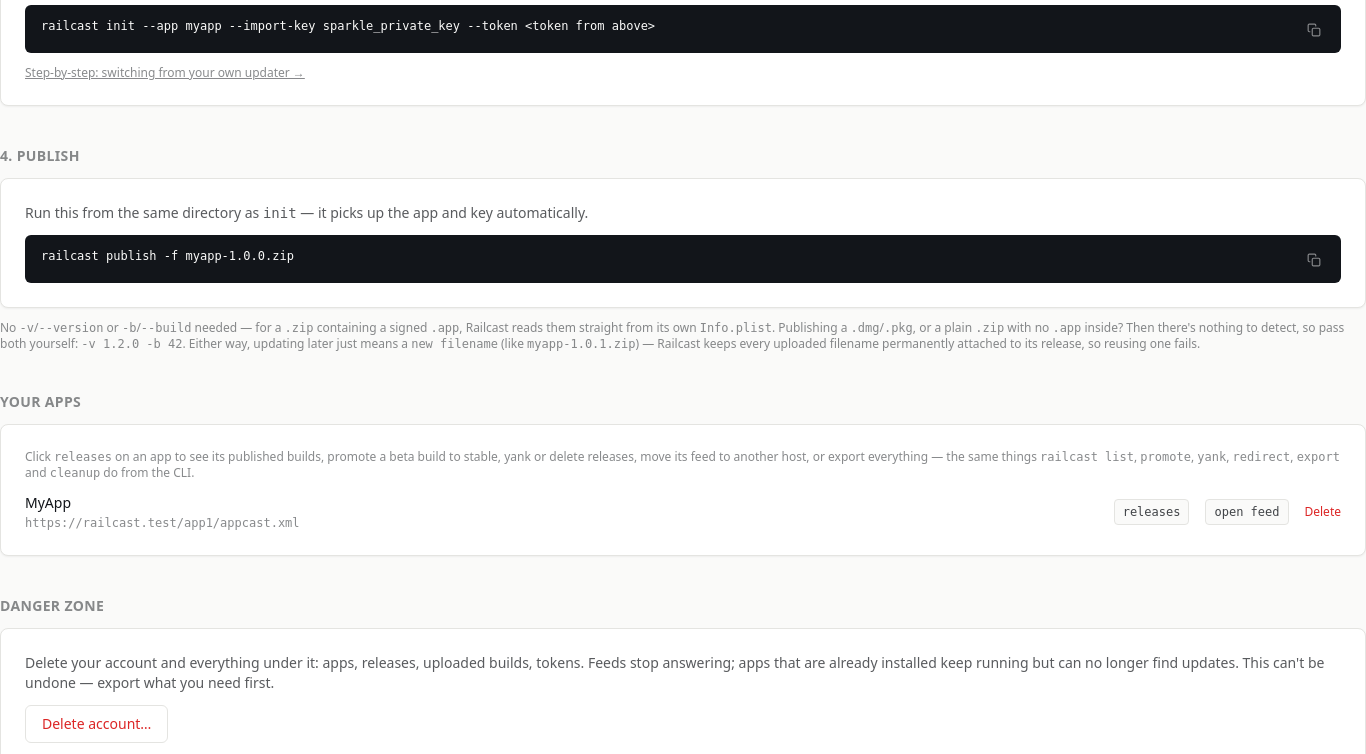
Scenario: promote › shows the server's reason when the build isn't higher than stable's latest
This screenshot has width=1366, height=754.
(page scrolled)
What coordinates should you click on to do the following:
click the button "releases"
I would click on:
 (1152, 512)
Its box is [1114, 499, 1190, 525].
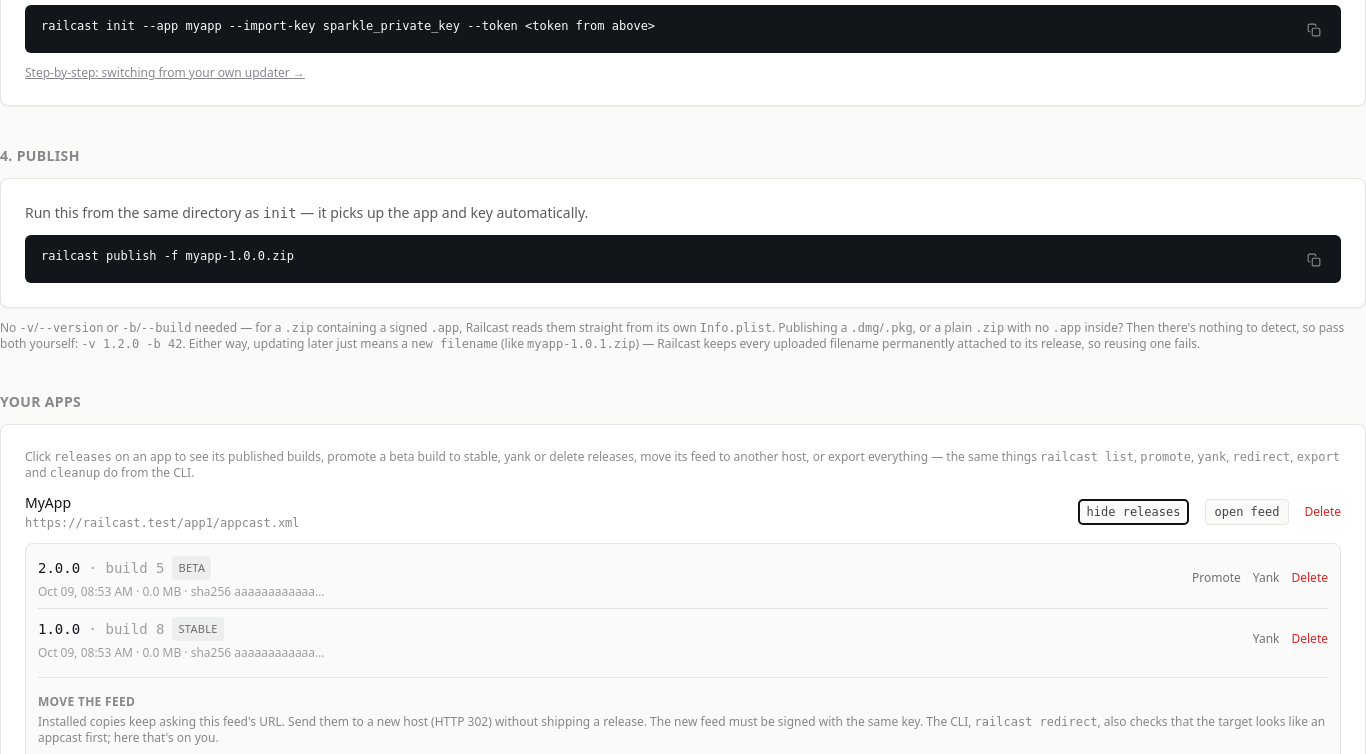
What coordinates should you click on to do the following:
click the button with aria-label "Promote 2.0.0 to stable"
I would click on:
 (1216, 578)
Its box is [1192, 570, 1241, 586].
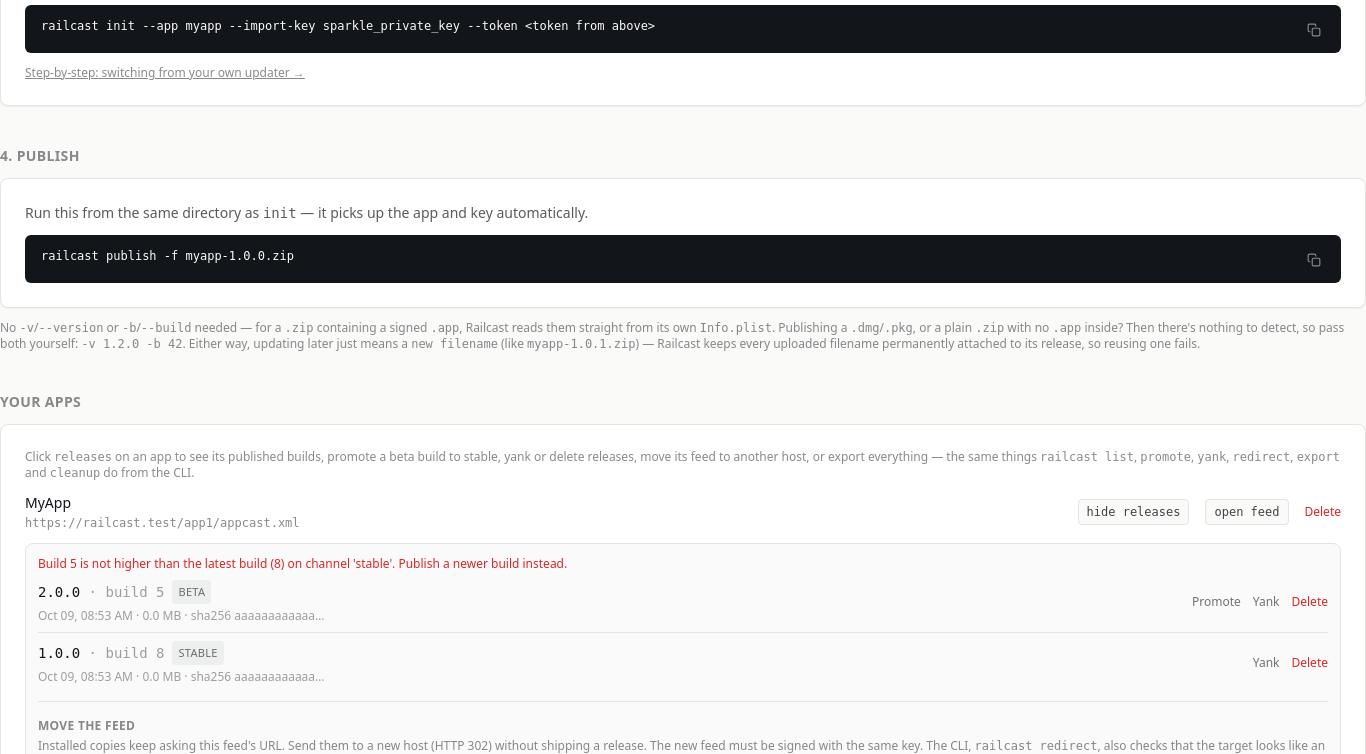
Expected: the button with aria-label "Promote 2.0.0 to stable" is enabled, [1192, 594, 1241, 610]
Expected: the text "Publish a newer build instead" is shown, [38, 555, 567, 572]
